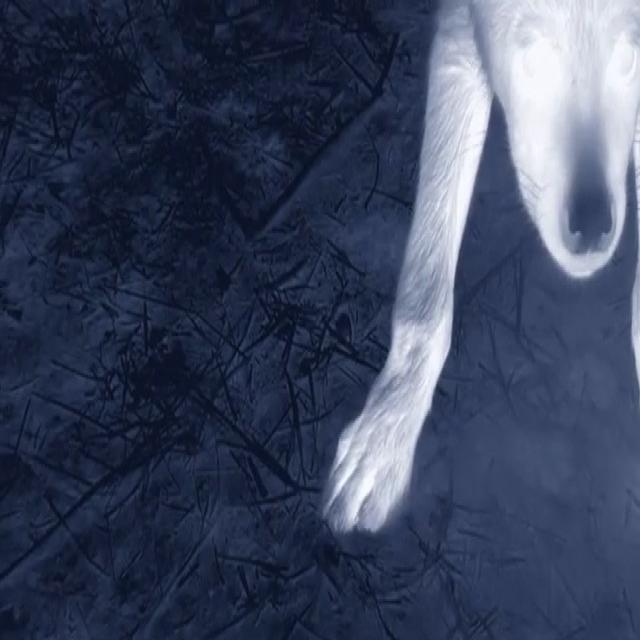animal: (279, 0, 640, 585)
